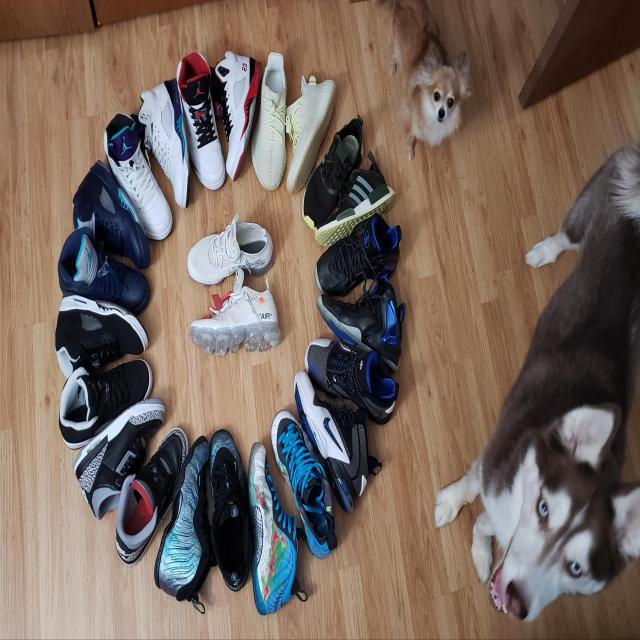shoes: (292, 368, 383, 513), (74, 398, 166, 520), (247, 439, 309, 615), (113, 428, 189, 570), (154, 429, 213, 611), (270, 407, 338, 558), (316, 270, 407, 375), (70, 159, 152, 273), (59, 358, 155, 452), (102, 113, 173, 240), (306, 334, 400, 426), (314, 209, 403, 306), (60, 228, 150, 317), (188, 270, 282, 354), (56, 292, 150, 373), (316, 152, 396, 247), (301, 116, 367, 231), (174, 49, 226, 191), (137, 76, 191, 211), (208, 429, 252, 593), (210, 48, 261, 186), (285, 72, 337, 199), (184, 216, 274, 286), (252, 50, 288, 193)
